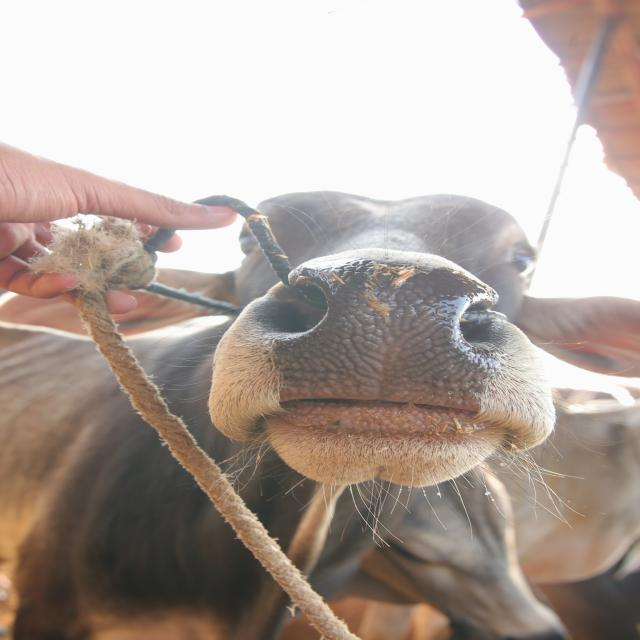muzzles: (232, 249, 517, 430)
